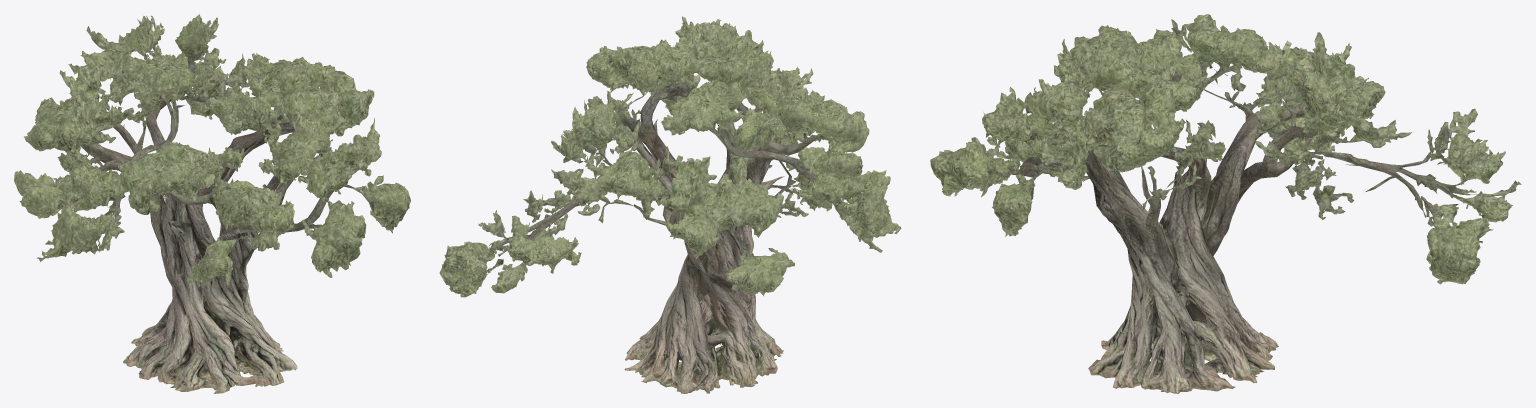
File: olive-west-ancient.glb
3 views of the same model, side by side, from view 1: azimuth 30°, elevation 25°; view 2: azimuth 150°, elevation 25°; view 3: azimuth 270°, elevation 25° (orthographic). The views are drawn at different scales.
Visible parts, largest first — view 1: Mesh_0; view 2: Mesh_0; view 3: Mesh_0.
Part boxes in pixels (left/top/right/bottom): Mesh_0: left=14, top=14, right=410, bottom=393; Mesh_0: left=439, top=16, right=901, bottom=393; Mesh_0: left=930, top=14, right=1521, bottom=393.
Bounding box in the file's own units: 5.69 × 5 × 8.29.
Materials: 1 (1 with a texture image).
